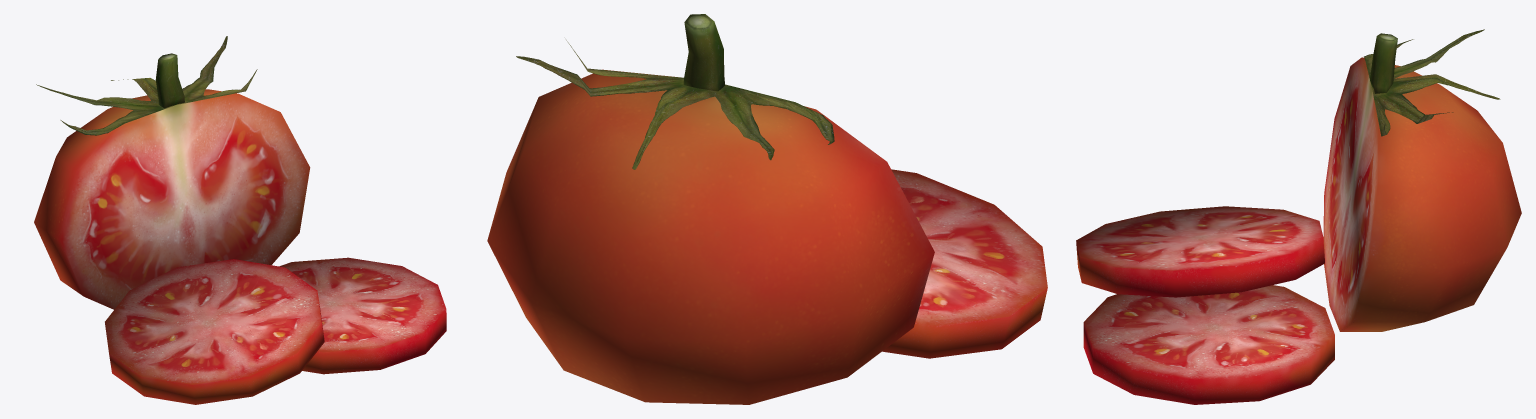
Rendered from SM_Tomatoes.fbx.
3 renders of one model, left to right at view 1: azimuth 30°, elevation 25°; view 2: azimuth 150°, elevation 25°; view 3: azimuth 270°, elevation 25°, orthographic. The views are drawn at different scales.
Visible parts, largest first — view 1: Sphere.007, Circle.005, Circle.004, Plane.004, Sphere.008; view 2: Sphere.007, Circle.005, Plane.004, Sphere.008; view 3: Sphere.007, Circle.004, Circle.005, Plane.004, Sphere.008.
Boxes of the visible parts, x1,y1,x2,y2 form: Sphere.007: (34, 89, 310, 309); Circle.005: (105, 259, 324, 404); Circle.004: (279, 257, 446, 374); Plane.004: (36, 36, 257, 135); Sphere.008: (155, 53, 184, 108); Sphere.007: (487, 69, 934, 404); Circle.005: (882, 169, 1047, 358); Plane.004: (516, 40, 834, 169); Sphere.008: (683, 14, 725, 91); Sphere.007: (1323, 57, 1521, 331); Circle.004: (1083, 285, 1334, 404); Circle.005: (1076, 206, 1324, 297); Plane.004: (1364, 29, 1500, 136); Sphere.008: (1370, 33, 1397, 93).
Size of the model in its own units: 289 by 209 by 310.
